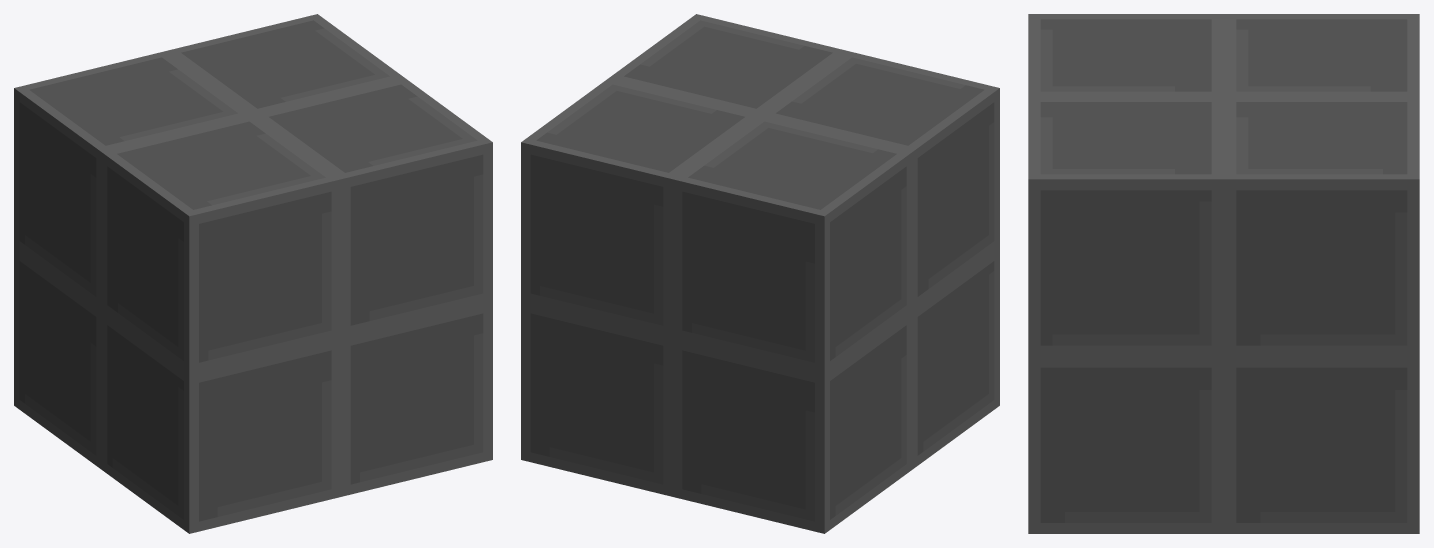
Rendered from Floor.obj.
The picture shows the model from 3 angles, left to right: view 1: azimuth 30°, elevation 25°; view 2: azimuth 150°, elevation 25°; view 3: azimuth 270°, elevation 25°; orthographic projection. The views are drawn at different scales.
Bounding box in the file's own units: 3.2 × 3.2 × 3.2.
Materials: 1 (1 with a texture image).
